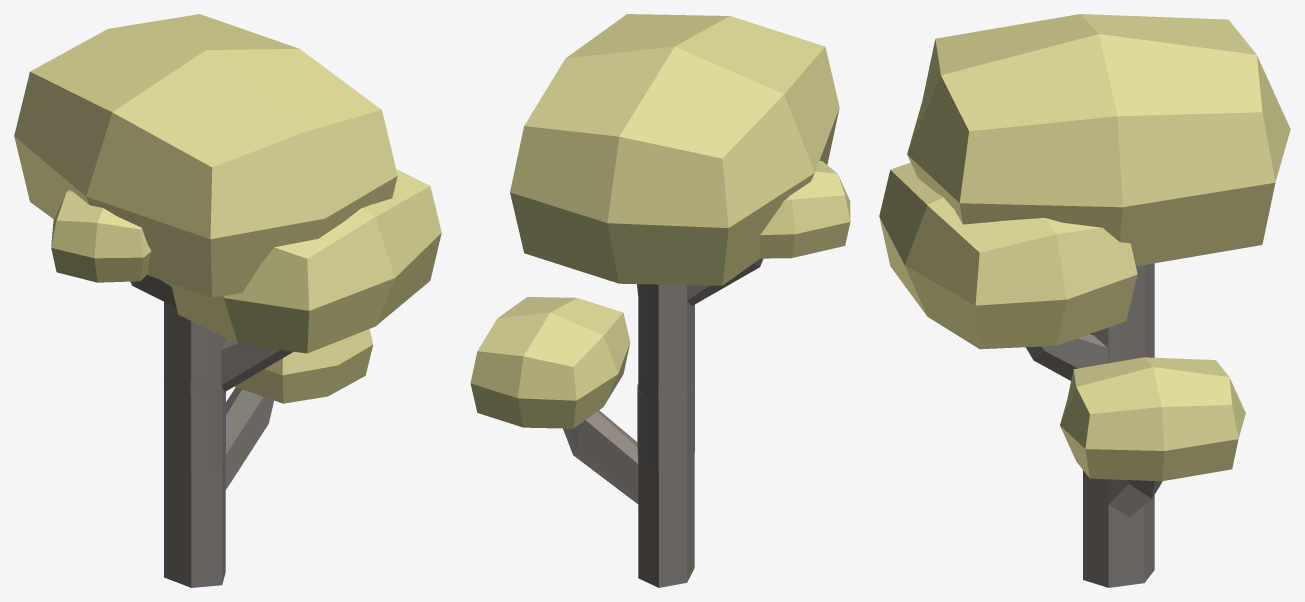
Rendered from tree4.fbx.
3 views of the same model, side by side, from view 1: azimuth 30°, elevation 25°; view 2: azimuth 150°, elevation 25°; view 3: azimuth 270°, elevation 25° (orthographic). The views are drawn at different scales.
Parts seen in each view (by area): view 1: polySurface100, polySurface101, polySurface99, polySurface103, polySurface102; view 2: polySurface100, polySurface99, polySurface102, polySurface103; view 3: polySurface100, polySurface101, polySurface102, polySurface99.
Part boxes in pixels (left/top/right/bottom): polySurface100: left=14, top=14, right=397, bottom=297; polySurface101: left=171, top=169, right=441, bottom=353; polySurface99: left=130, top=275, right=293, bottom=587; polySurface103: left=51, top=190, right=151, bottom=282; polySurface102: left=234, top=329, right=373, bottom=403; polySurface100: left=510, top=14, right=839, bottom=285; polySurface99: left=563, top=258, right=763, bottom=587; polySurface102: left=470, top=297, right=630, bottom=428; polySurface103: left=758, top=161, right=850, bottom=258; polySurface100: left=907, top=14, right=1290, bottom=266; polySurface101: left=879, top=162, right=1137, bottom=349; polySurface102: left=1060, top=357, right=1245, bottom=481; polySurface99: left=1026, top=263, right=1162, bottom=587.
Size of the model in its own units: 6.22 by 9.22 by 6.35.
